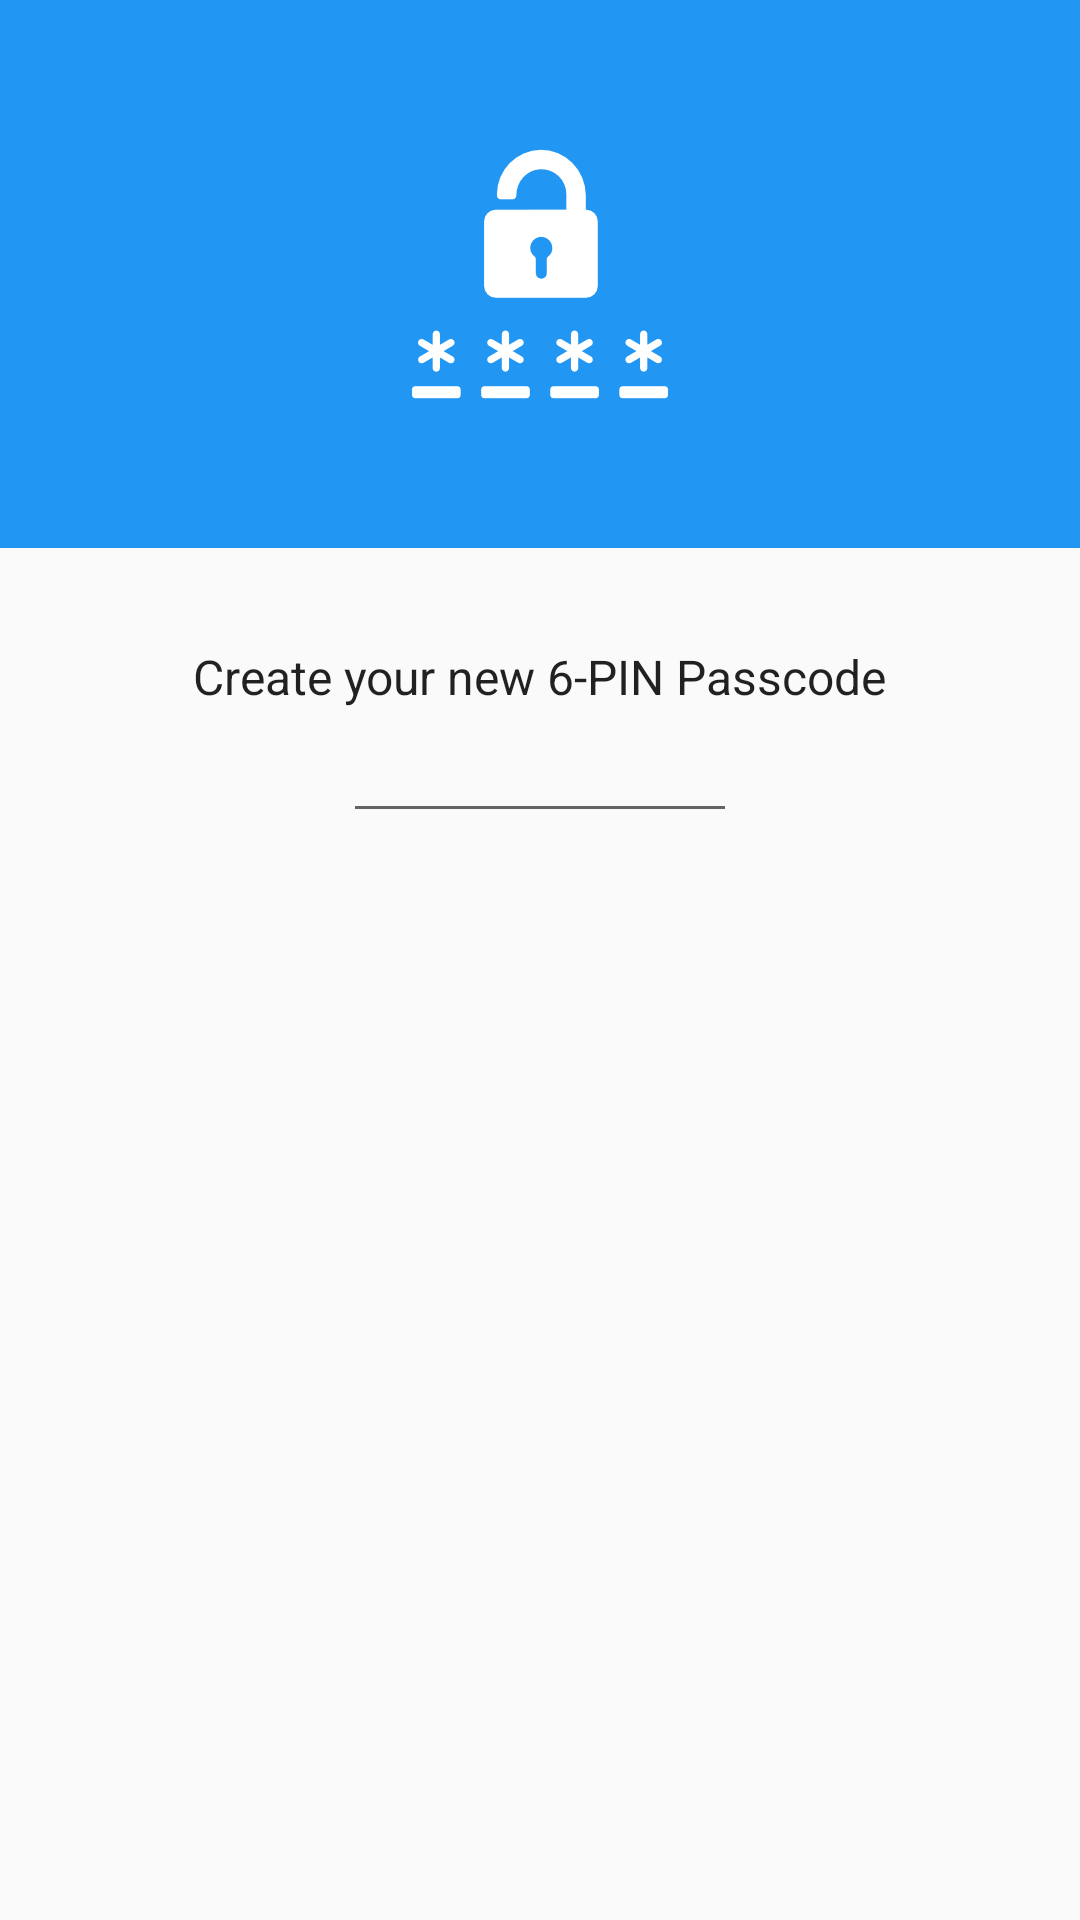

Icons on this 1080w x 1920h Android screen, each with the point to tap as point (x, y):
password: point (540, 274)
